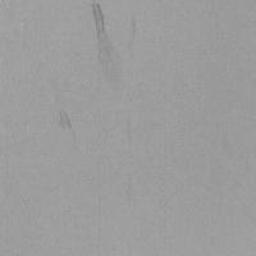Water spot: (92, 2, 111, 61), (126, 84, 139, 142), (59, 111, 72, 129), (129, 18, 136, 46)
